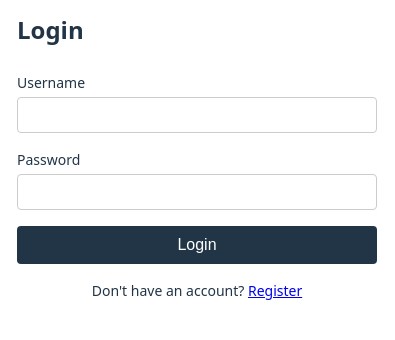
Scenario: loginPage › shows validation error when username is empty
Type "password123" into the password field labelled "Password". click: (197, 192)
box: x1=17 y1=174 x2=377 y2=210
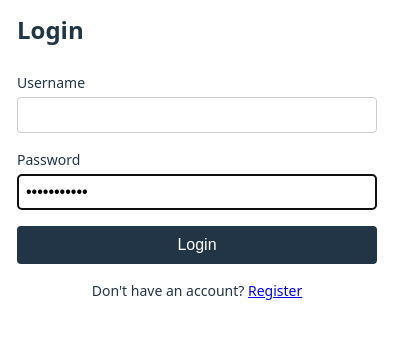
Click the button "Login". click: (197, 245)
box: x1=17 y1=226 x2=377 y2=264
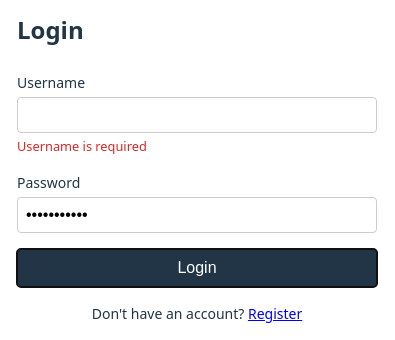
Result: the text "Username is required" is shown at x1=17 y1=137 x2=147 y2=155
